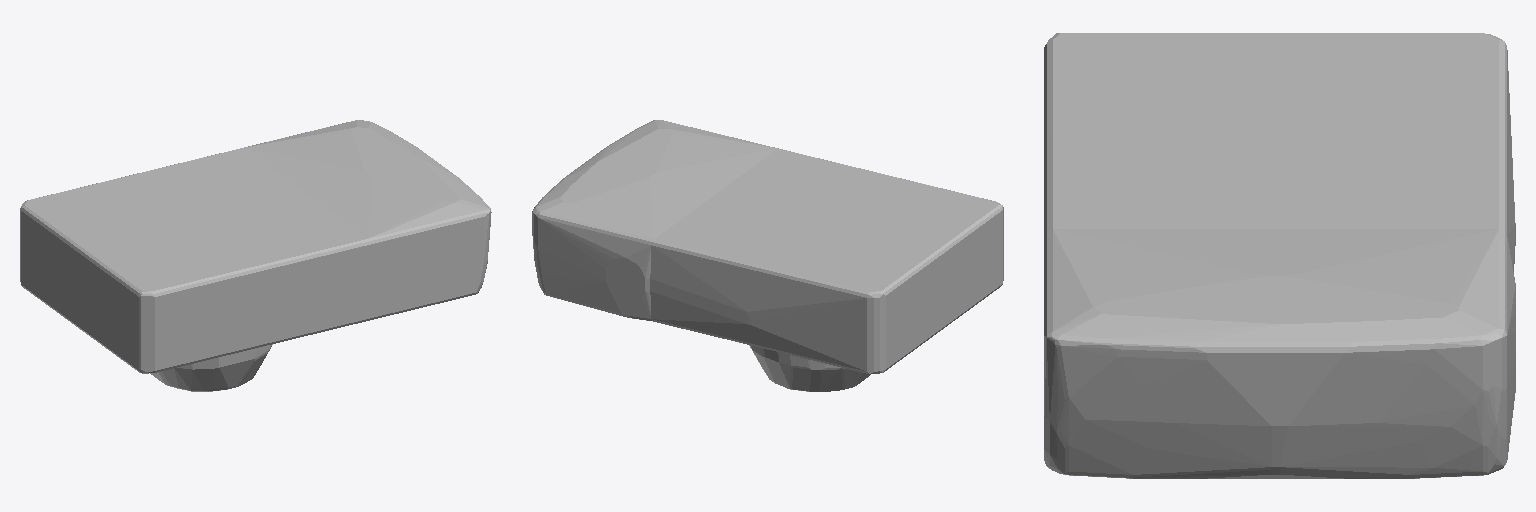
URDF robot description (root):
<robot name="root">
  <link name="link_coacd_convex_piece_0">
    <inertial>
      <origin xyz="0 0 0" rpy="0 0 0"/>
      <inertia ixx="2.35E-03" ixy="-1.40E-04" ixz="-2.66E-03" iyy="5.67E-03" iyz="-1.68E-04" izz="5.19E-03"/>
    </inertial>
    <visual>
      <origin xyz="0 0 0" rpy="0 0 0"/>
      <geometry>
        <mesh filename="coacd_convex_piece_0.obj" scale="1.0000E+00 1.0000E+00 1.0000E+00"/>
      </geometry>
      <material name="">
        <color rgba="7.50E-01 7.50E-01 7.50E-01 1"/>
      </material>
    </visual>
    <collision>
      <origin xyz="0 0 0" rpy="0 0 0"/>
      <geometry>
        <mesh filename="coacd_convex_piece_0.obj" scale="1.0000E+00 1.0000E+00 1.0000E+00"/>
      </geometry>
    </collision>
  </link>
  <link name="link_coacd_convex_piece_1">
    <inertial>
      <origin xyz="0 0 0" rpy="0 0 0"/>
      <inertia ixx="1.87E-02" ixy="5.96E-04" ixz="-1.43E-02" iyy="5.34E-02" iyz="-5.23E-05" izz="6.47E-02"/>
    </inertial>
    <visual>
      <origin xyz="0 0 0" rpy="0 0 0"/>
      <geometry>
        <mesh filename="coacd_convex_piece_1.obj" scale="1.0000E+00 1.0000E+00 1.0000E+00"/>
      </geometry>
      <material name="">
        <color rgba="7.50E-01 7.50E-01 7.50E-01 1"/>
      </material>
    </visual>
    <collision>
      <origin xyz="0 0 0" rpy="0 0 0"/>
      <geometry>
        <mesh filename="coacd_convex_piece_1.obj" scale="1.0000E+00 1.0000E+00 1.0000E+00"/>
      </geometry>
    </collision>
  </link>
  <joint name="link_coacd_convex_piece_1_joint" type="fixed">
    <origin xyz="0 0 0" rpy="0 0 0"/>
    <parent link="link_coacd_convex_piece_0"/>
    <child link="link_coacd_convex_piece_1"/>
  </joint>
  <link name="link_coacd_convex_piece_2">
    <inertial>
      <origin xyz="0 0 0" rpy="0 0 0"/>
      <inertia ixx="4.43E-04" ixy="-3.31E-05" ixz="-1.77E-04" iyy="1.10E-03" iyz="-1.83E-05" izz="1.78E-03"/>
    </inertial>
    <visual>
      <origin xyz="0 0 0" rpy="0 0 0"/>
      <geometry>
        <mesh filename="coacd_convex_piece_2.obj" scale="1.0000E+00 1.0000E+00 1.0000E+00"/>
      </geometry>
      <material name="">
        <color rgba="7.50E-01 7.50E-01 7.50E-01 1"/>
      </material>
    </visual>
    <collision>
      <origin xyz="0 0 0" rpy="0 0 0"/>
      <geometry>
        <mesh filename="coacd_convex_piece_2.obj" scale="1.0000E+00 1.0000E+00 1.0000E+00"/>
      </geometry>
    </collision>
  </link>
  <joint name="link_coacd_convex_piece_2_joint" type="fixed">
    <origin xyz="0 0 0" rpy="0 0 0"/>
    <parent link="link_coacd_convex_piece_1"/>
    <child link="link_coacd_convex_piece_2"/>
  </joint>
  <link name="link_coacd_convex_piece_3">
    <inertial>
      <origin xyz="0 0 0" rpy="0 0 0"/>
      <inertia ixx="3.21E-02" ixy="-5.13E-04" ixz="1.18E-02" iyy="6.01E-02" iyz="-8.49E-05" izz="8.10E-02"/>
    </inertial>
    <visual>
      <origin xyz="0 0 0" rpy="0 0 0"/>
      <geometry>
        <mesh filename="coacd_convex_piece_3.obj" scale="1.0000E+00 1.0000E+00 1.0000E+00"/>
      </geometry>
      <material name="">
        <color rgba="7.50E-01 7.50E-01 7.50E-01 1"/>
      </material>
    </visual>
    <collision>
      <origin xyz="0 0 0" rpy="0 0 0"/>
      <geometry>
        <mesh filename="coacd_convex_piece_3.obj" scale="1.0000E+00 1.0000E+00 1.0000E+00"/>
      </geometry>
    </collision>
  </link>
  <joint name="link_coacd_convex_piece_3_joint" type="fixed">
    <origin xyz="0 0 0" rpy="0 0 0"/>
    <parent link="link_coacd_convex_piece_2"/>
    <child link="link_coacd_convex_piece_3"/>
  </joint>
</robot>

--- What the picture shows (computed from the rendered views, not written in the file) ---
3 views of the same robot in one strip: view 1: azimuth 30°, elevation 25°; view 2: azimuth 150°, elevation 25°; view 3: azimuth 270°, elevation 25° (orthographic).
Robot: root — 4 links, 3 joints (3 fixed); root link link_coacd_convex_piece_0; default pose: all joints at 0.
Links seen in each view (by area): view 1: link_coacd_convex_piece_3, link_coacd_convex_piece_1, link_coacd_convex_piece_0; view 2: link_coacd_convex_piece_3, link_coacd_convex_piece_1, link_coacd_convex_piece_0; view 3: link_coacd_convex_piece_1, link_coacd_convex_piece_3.
Link boxes in pixels (bbox=[...]): link_coacd_convex_piece_3: bbox=[20, 148, 369, 373]; link_coacd_convex_piece_1: bbox=[244, 120, 491, 319]; link_coacd_convex_piece_0: bbox=[150, 344, 272, 391]; link_coacd_convex_piece_3: bbox=[650, 149, 1003, 373]; link_coacd_convex_piece_1: bbox=[532, 120, 778, 320]; link_coacd_convex_piece_0: bbox=[749, 345, 870, 391]; link_coacd_convex_piece_1: bbox=[1044, 229, 1515, 478]; link_coacd_convex_piece_3: bbox=[1044, 33, 1515, 271].
Bounding box of the posed robot: 1.61 × 1.02 × 0.6661 m (x, y, z).
Meshes: 4 distinct files referenced, 4 mesh visuals loaded (4 OBJ).
